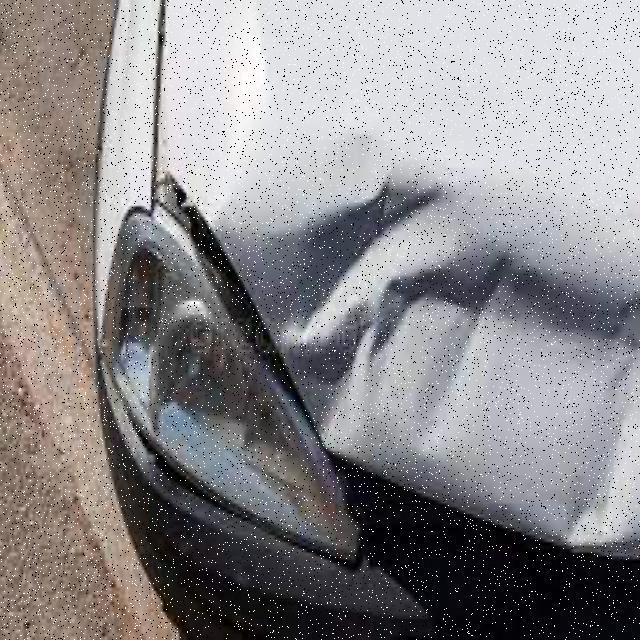bonnet-dent: (155, 0, 636, 465)
